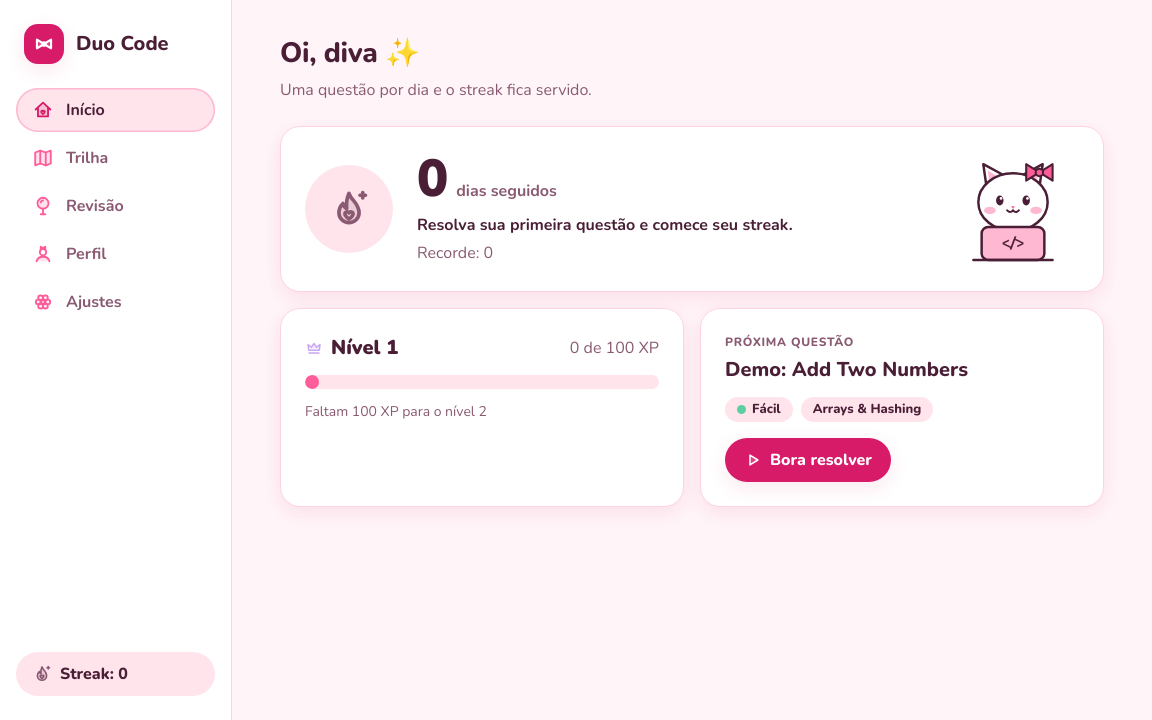
Test case: movimento (spec 007) › a opção de Ajustes desliga as animações e fica gravada
Later steps or results of the test are not shown.
Click the link "Ajustes". click: x=77, y=302
box: [32,291,122,313]
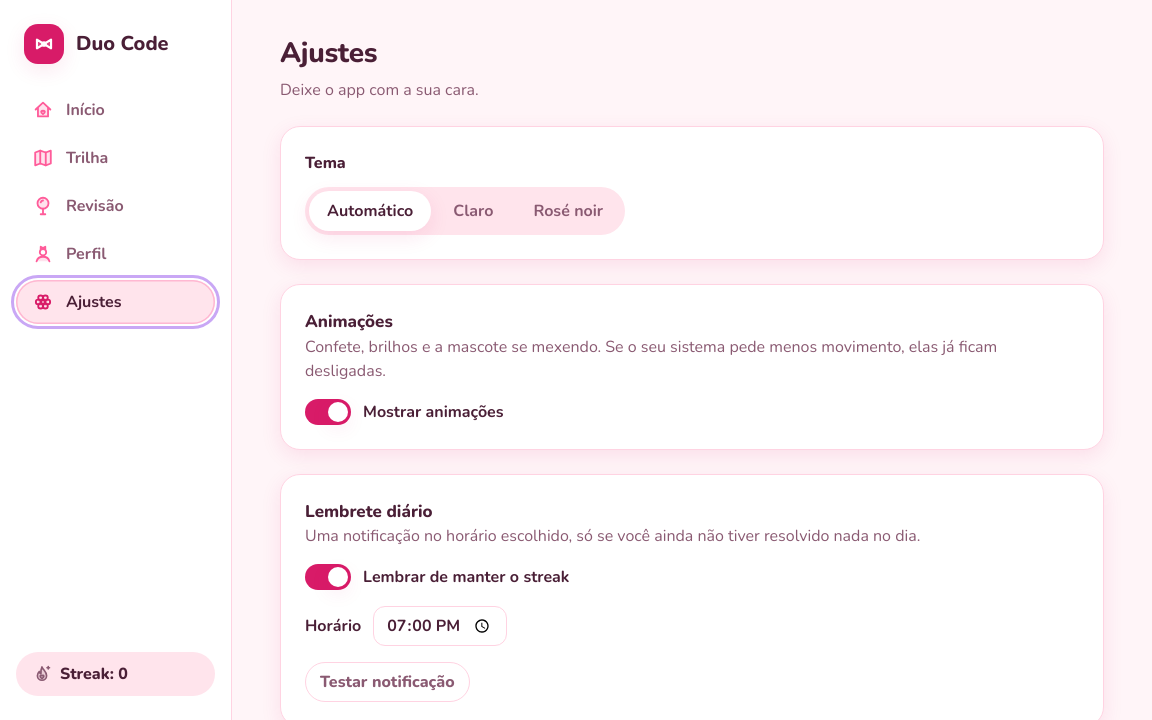
Now the switch labelled "Mostrar animações" is checked, box [305,398,504,424]
